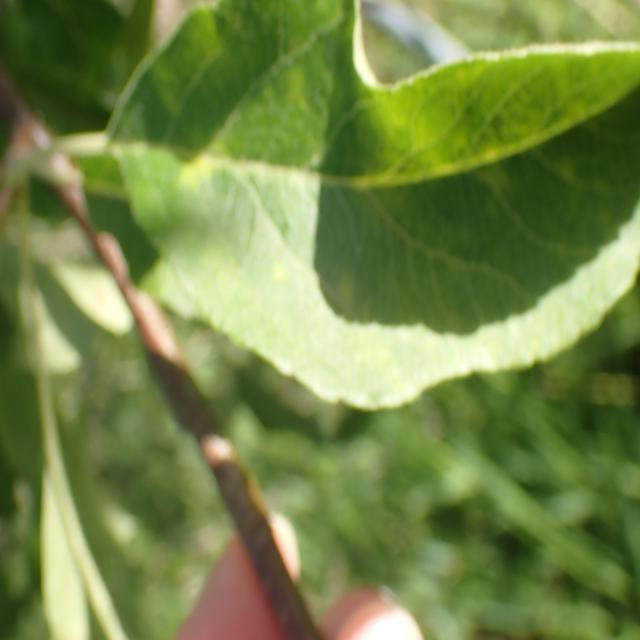scab: (122, 61, 617, 372)
